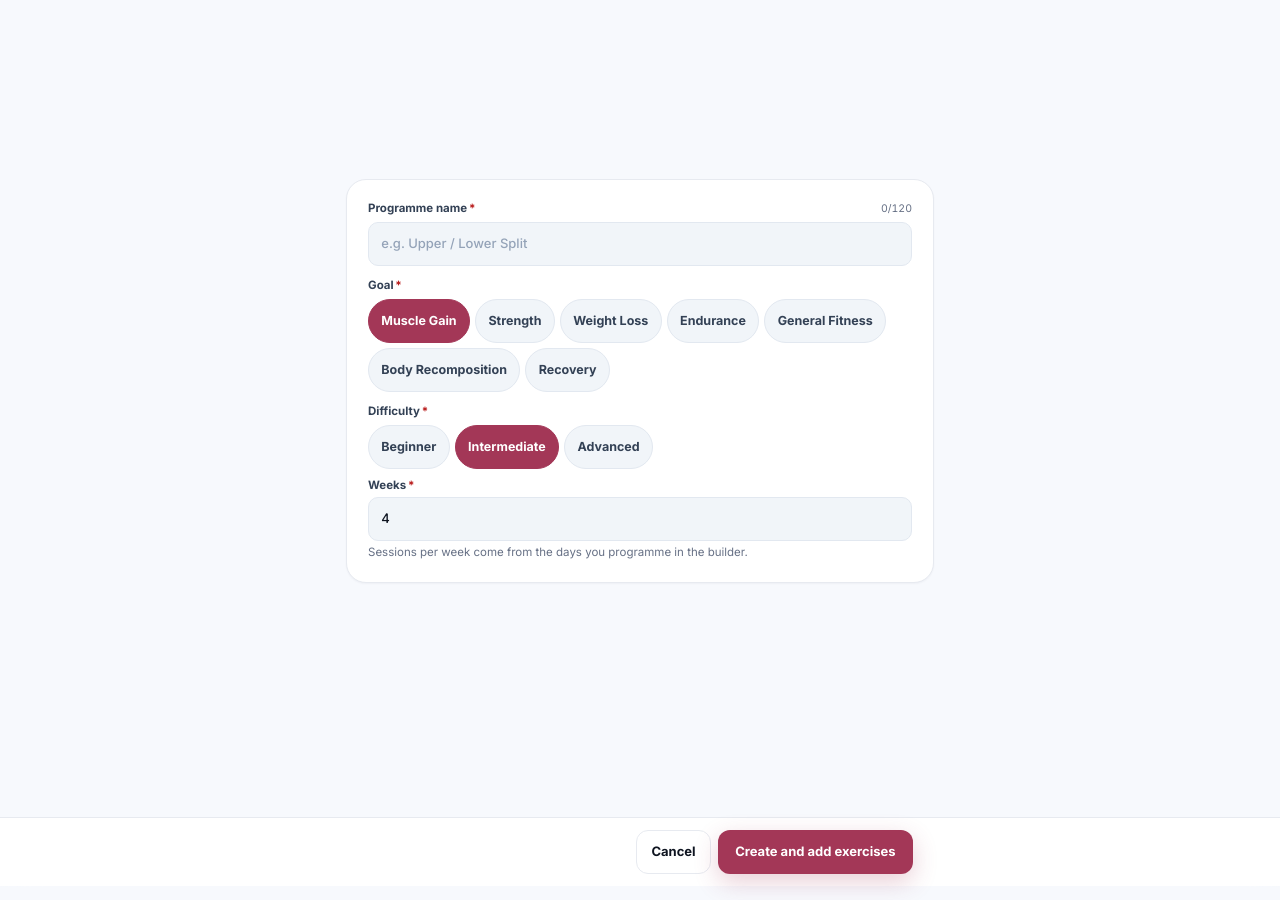
Test: bounds without silently rewriting what was typed › blocks  weeks and does not create anything
Type "Test" into the field with placeholder "e.g. Upper / Lower Split" at [640, 244], box x1=368 y1=222 x2=912 y2=266
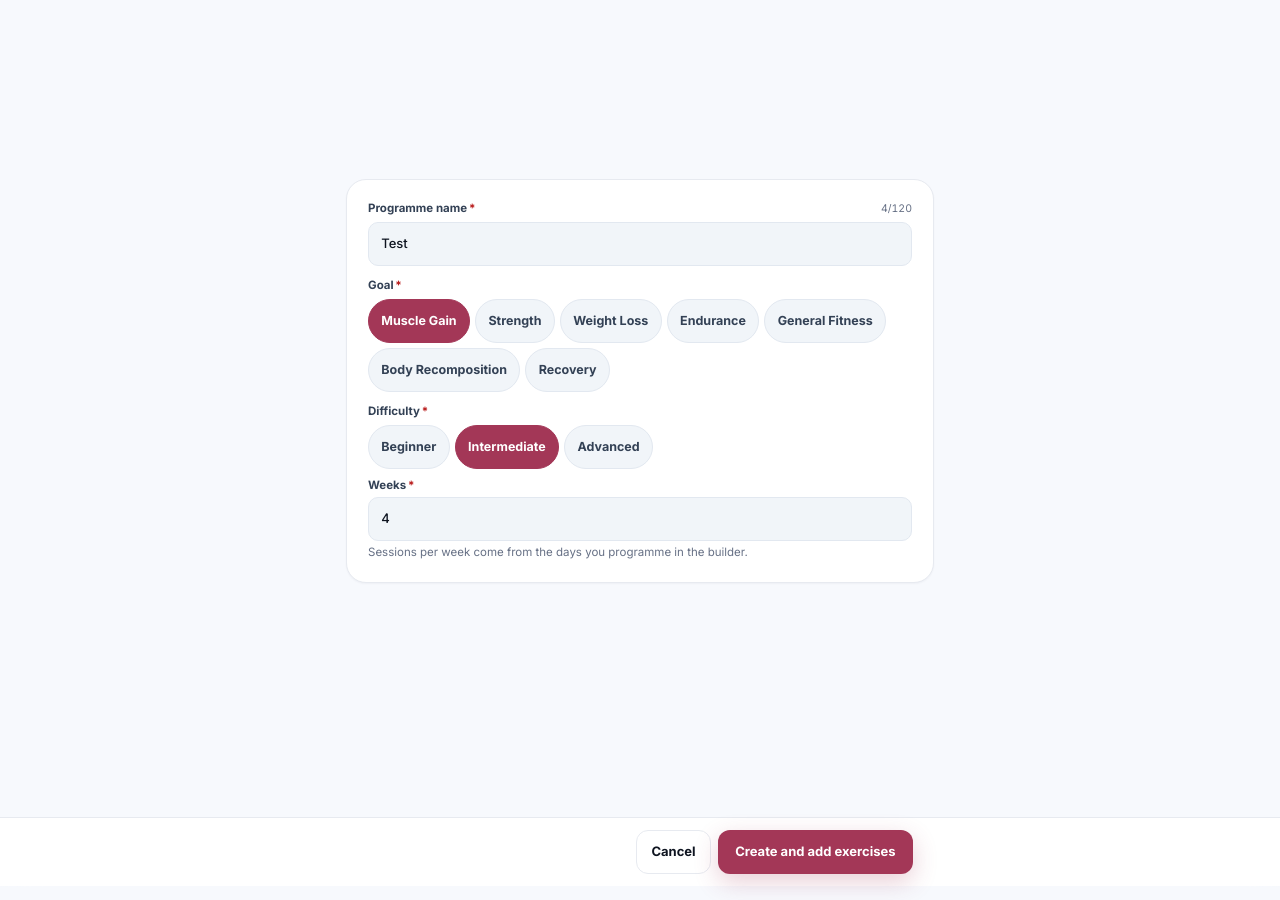
Clear the field labelled "Weeks" at [640, 519], box x1=368 y1=497 x2=912 y2=541
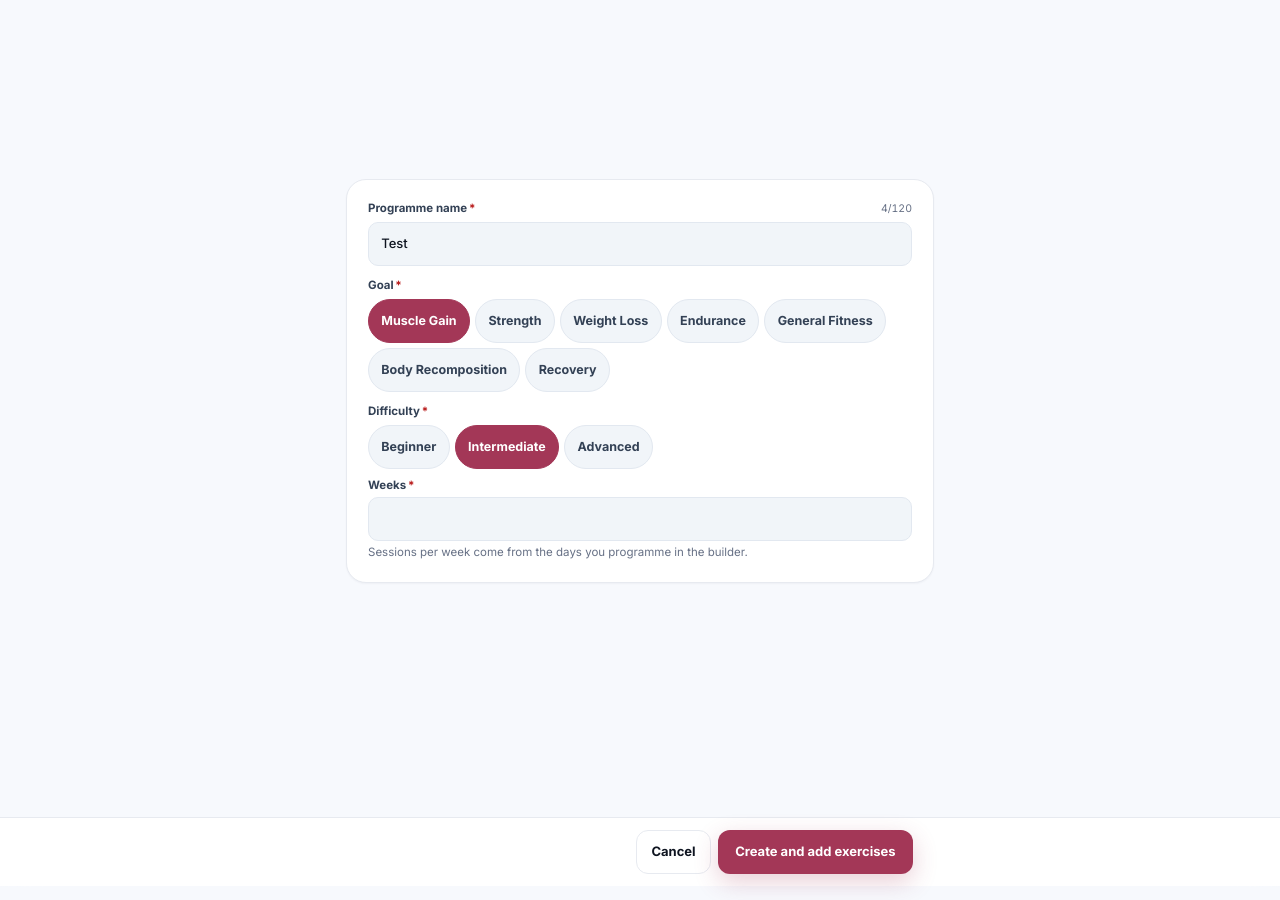
Click the button "Create and add exercises" at [815, 852], box x1=718 y1=830 x2=913 y2=874
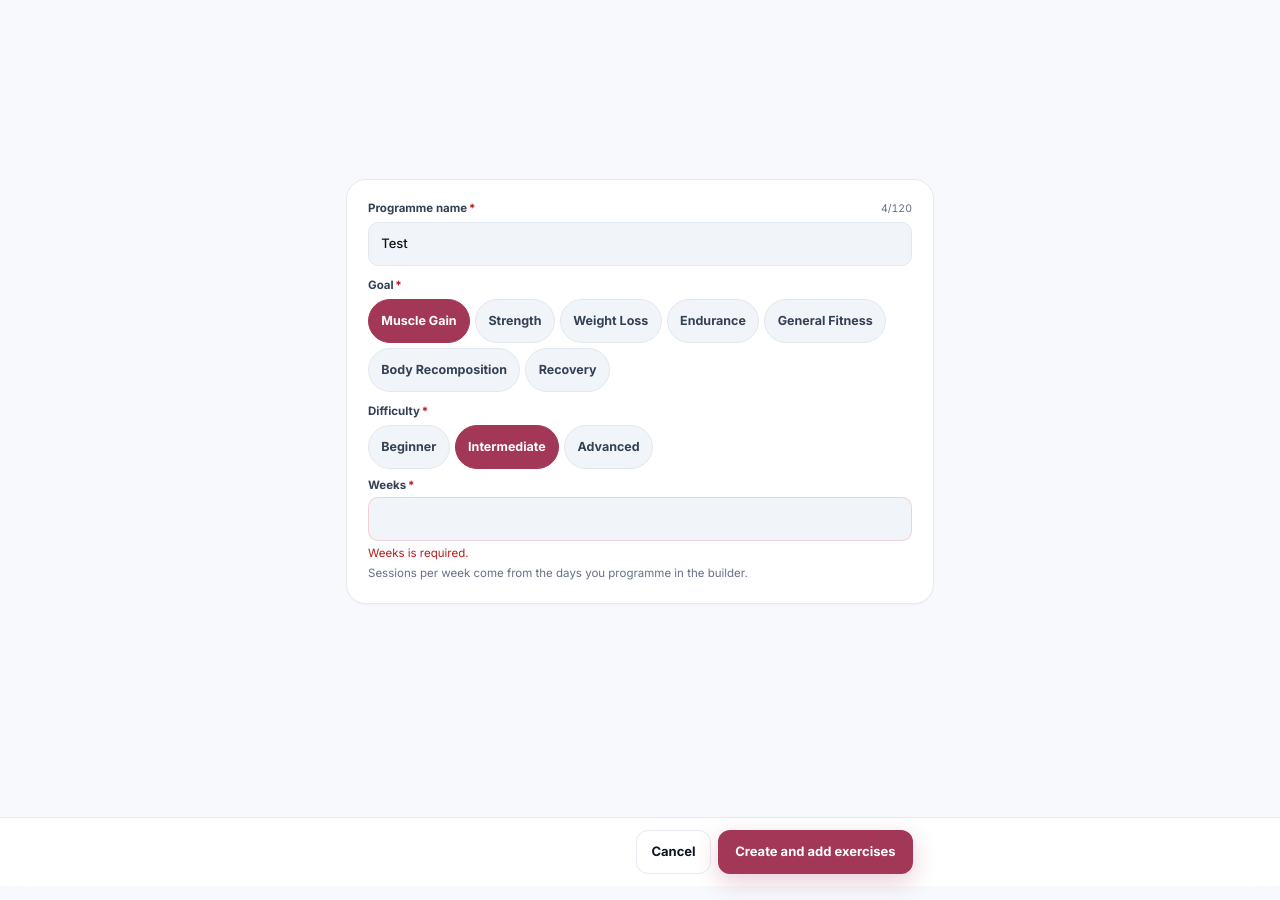
Expected: the text "Weeks is required." is shown, x1=368 y1=546 x2=468 y2=560
